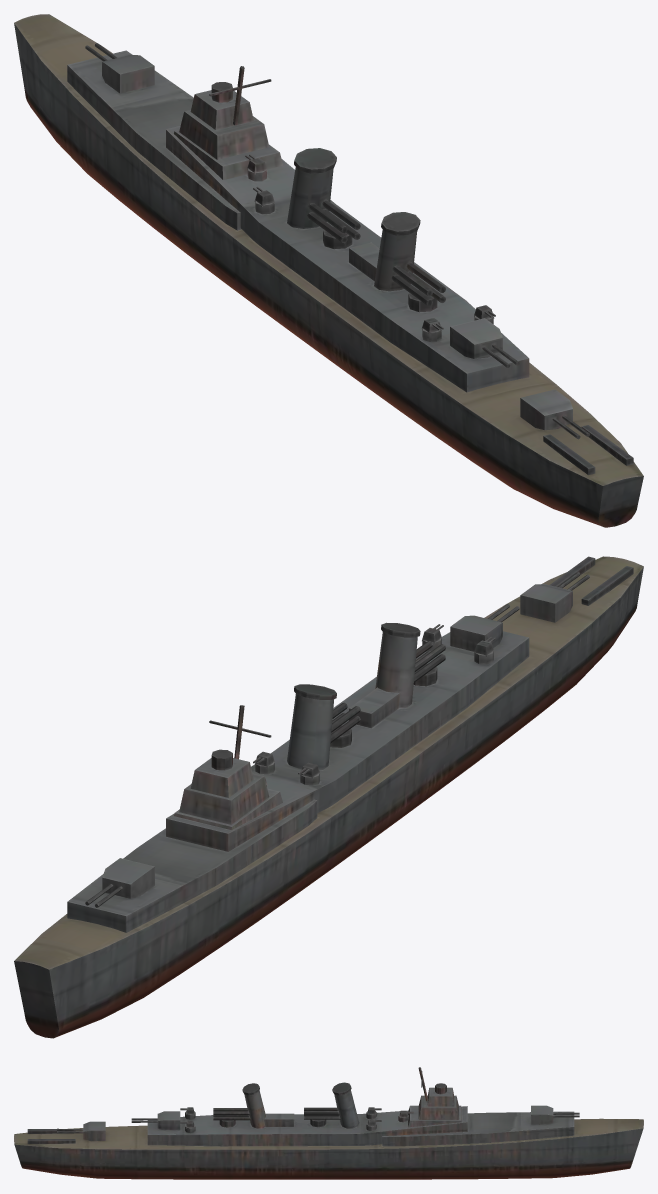
Rendered from destroyer_ijn_baked.glb.
The picture shows the model from 3 angles, top to bottom: view 1: azimuth 30°, elevation 25°; view 2: azimuth 150°, elevation 25°; view 3: azimuth 270°, elevation 25°; orthographic projection. The views are drawn at different scales.
Parts seen in each view (by area): view 1: destroyer_ijn; view 2: destroyer_ijn; view 3: destroyer_ijn.
Part boxes in pixels (x1,y1,x2,y2): destroyer_ijn: (14,14,643,527); destroyer_ijn: (14,556,643,1038); destroyer_ijn: (14,1067,643,1179).
Size of the model in its own units: 11.44 by 22.1 by 118.
1 material, 1 textured.
